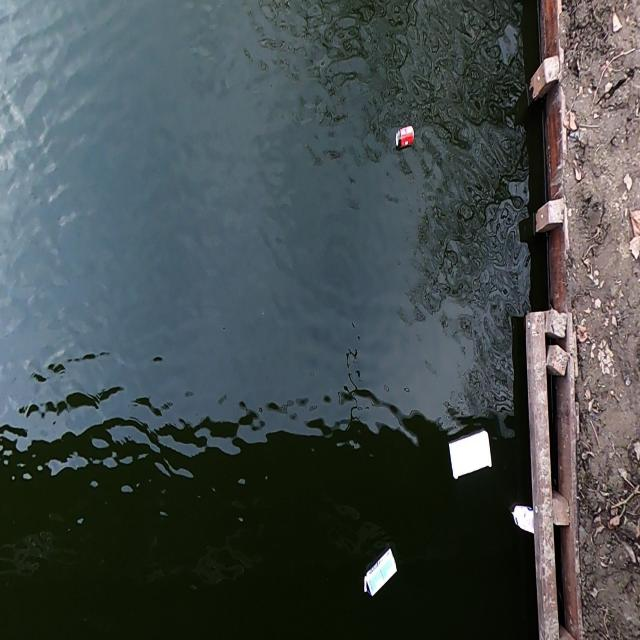Autre plastique: (446, 428, 497, 484)
Non plastique: (362, 545, 401, 602), (393, 123, 418, 154)
